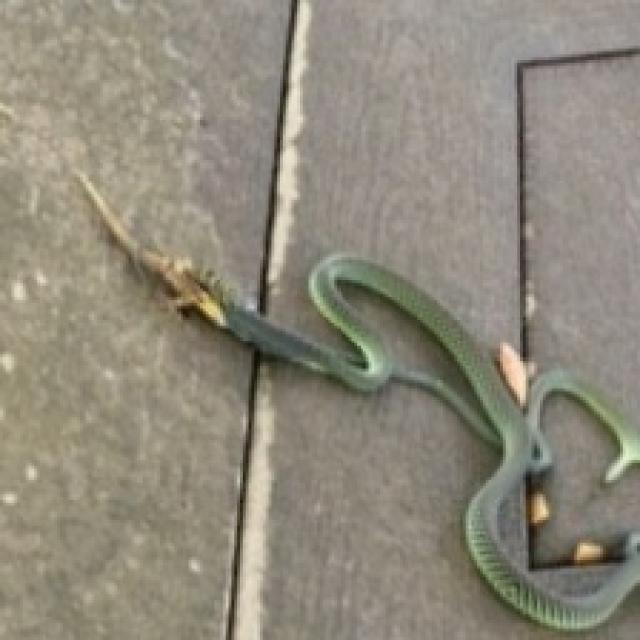paradise tree snake: (74, 171, 637, 629), (337, 283, 474, 403)
